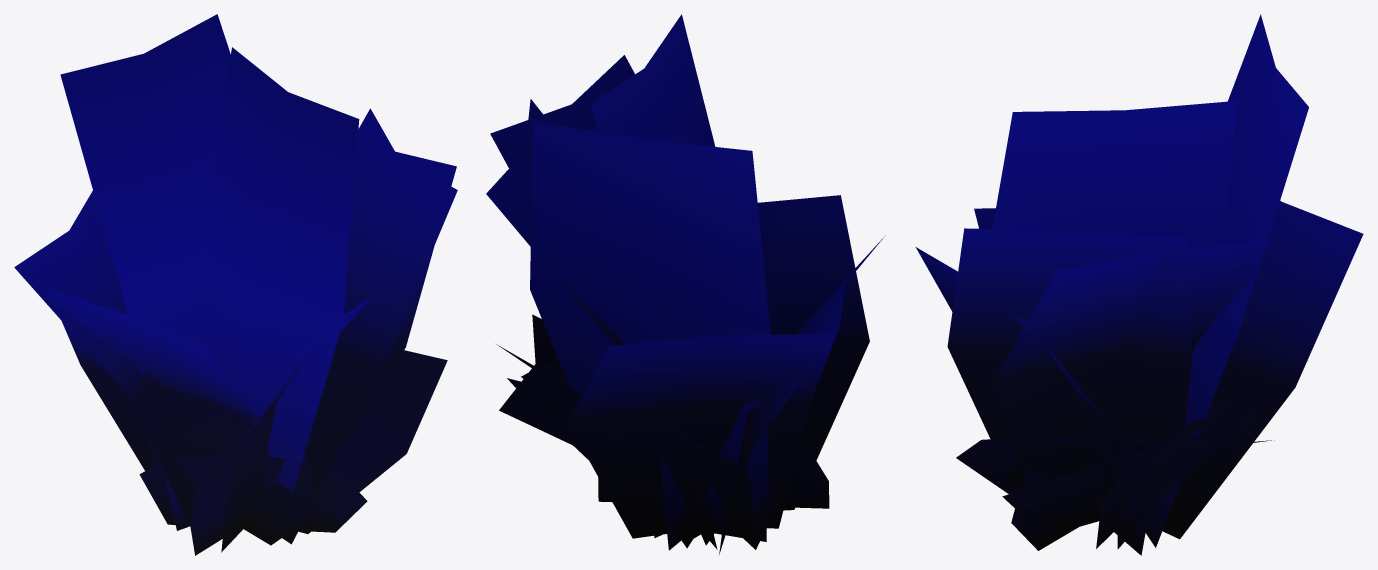
File: SM_Grass_M_S_01.fbx
The picture shows the model from 3 angles, left to right: view 1: azimuth 30°, elevation 25°; view 2: azimuth 150°, elevation 25°; view 3: azimuth 270°, elevation 25°; orthographic projection. The views are drawn at different scales.
Visible parts, largest first — view 1: SM_Grass_M_S_01; view 2: SM_Grass_M_S_01; view 3: SM_Grass_M_S_01.
Part boxes in pixels (bbox=[...]): SM_Grass_M_S_01: bbox=[14, 14, 457, 555]; SM_Grass_M_S_01: bbox=[486, 14, 885, 554]; SM_Grass_M_S_01: bbox=[915, 14, 1363, 555].
Size of the model in its own units: 88.76 by 89.43 by 98.84.
